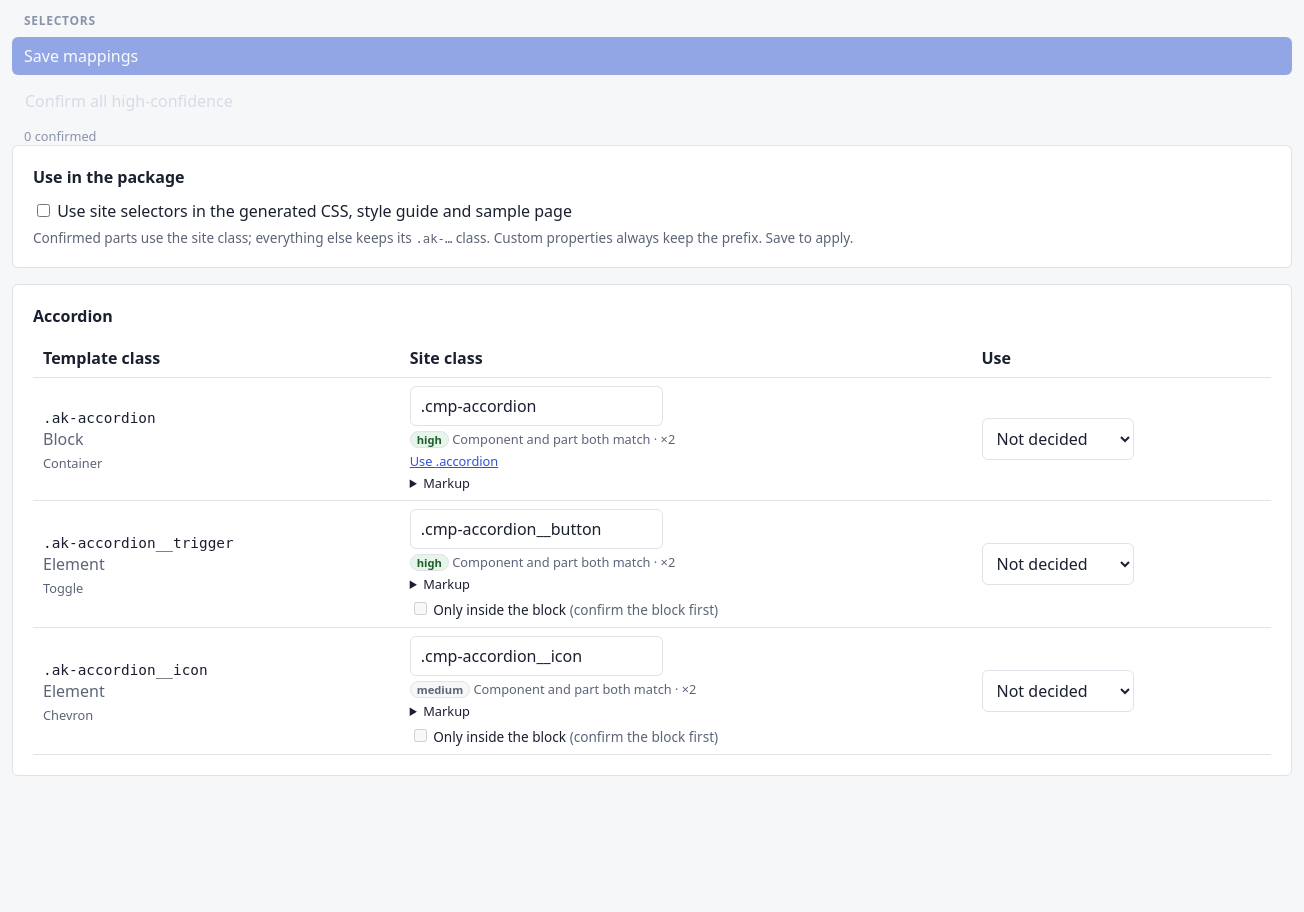
it: SelectorEditor › offers other candidates, scopes elements only once the block is confirmed, and warns
This screenshot has width=1304, height=912.
Expected: the checkbox labelled "Only inside the block (confirm the block first)" below "accordion__trigger" is disabled, x1=414 y1=602 x2=427 y2=615
Select "Site class" in the dropdown named "Use for .ak-accordion": (1058,439) x1=982 y1=418 x2=1134 y2=460
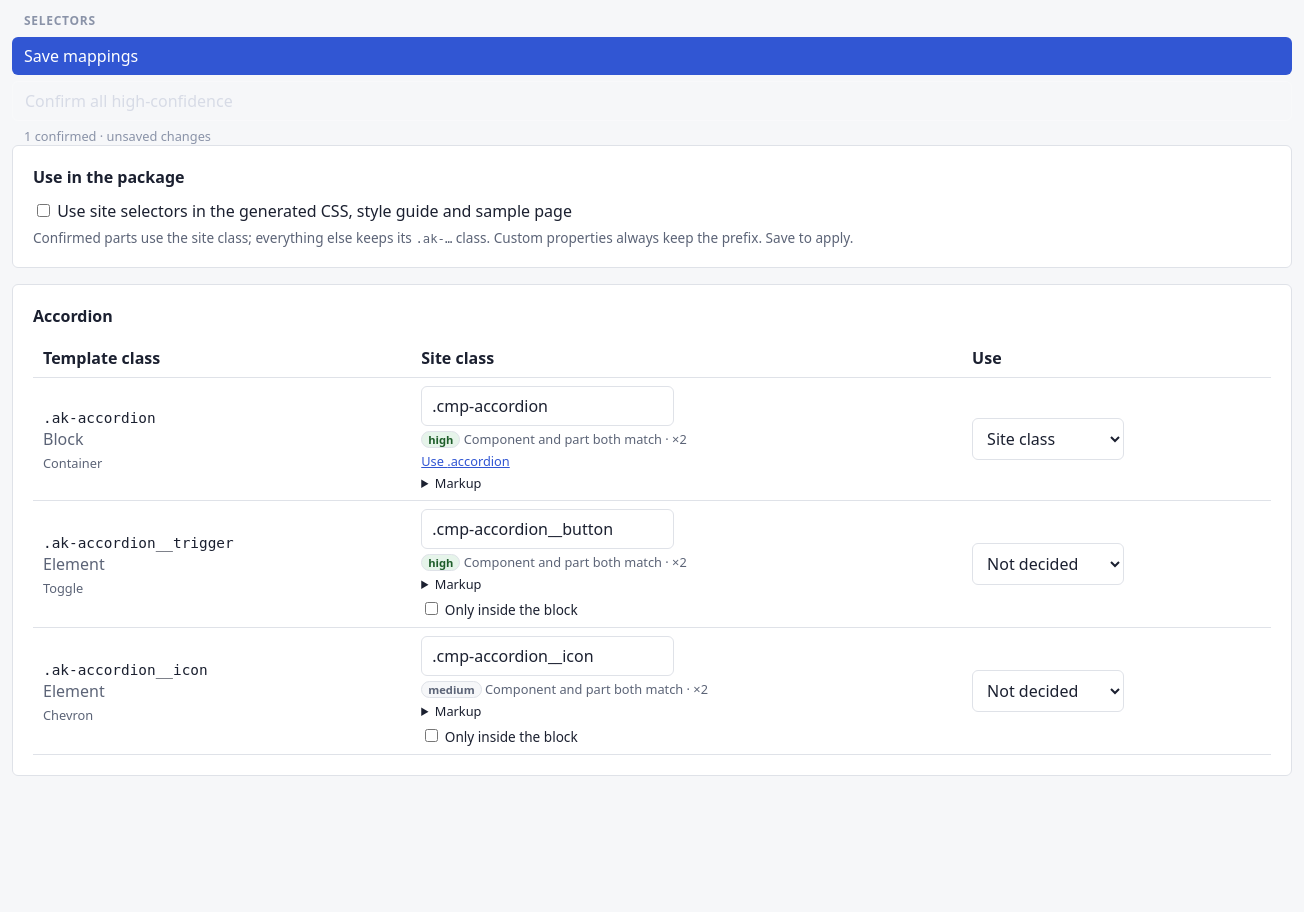
Expected: the checkbox labelled "Only inside the block" below "accordion__trigger" is enabled, x1=425 y1=602 x2=438 y2=615
Click the button "Use .accordion": (465,461) x1=421 y1=452 x2=510 y2=470
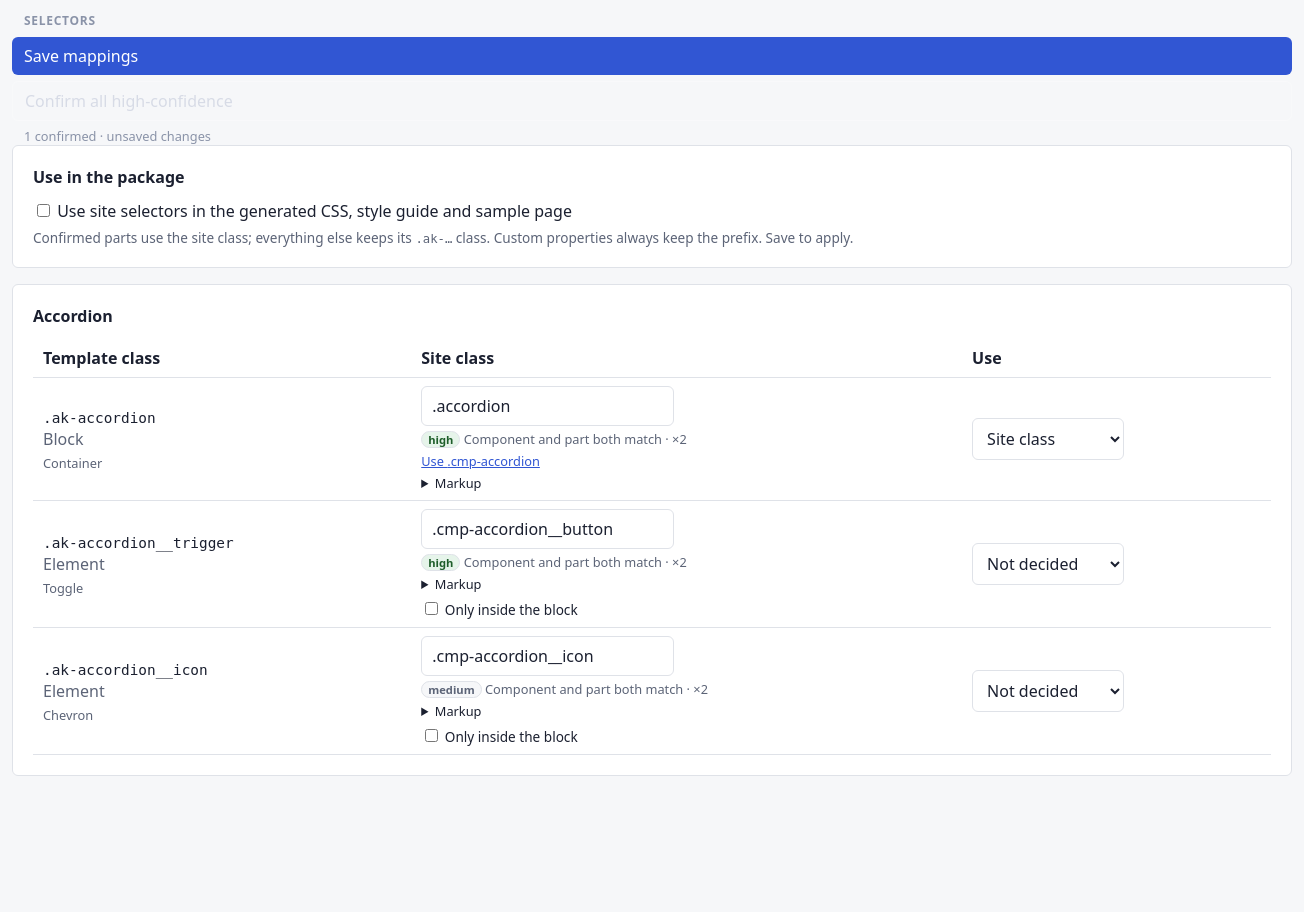
Expected: the field labelled ".ak-accordion" holds ".accordion", x1=421 y1=386 x2=674 y2=426
Replace the text in the field labelled ".ak-accordion__icon" with ".gone": (548,656) x1=421 y1=636 x2=674 y2=676
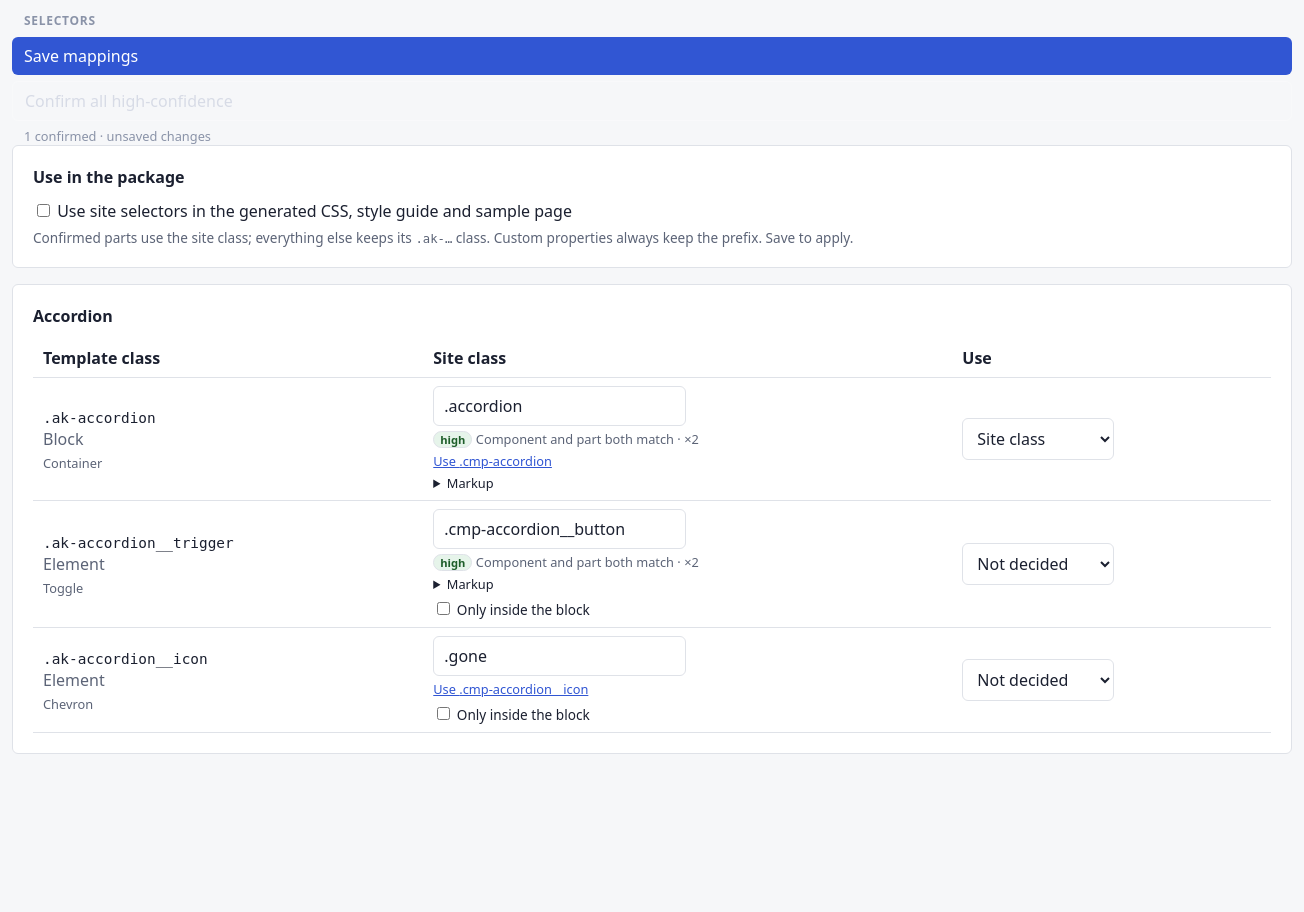
Select "Site class" in the dropdown named "Use for .ak-accordion__icon": (1038,680) x1=962 y1=659 x2=1114 y2=701
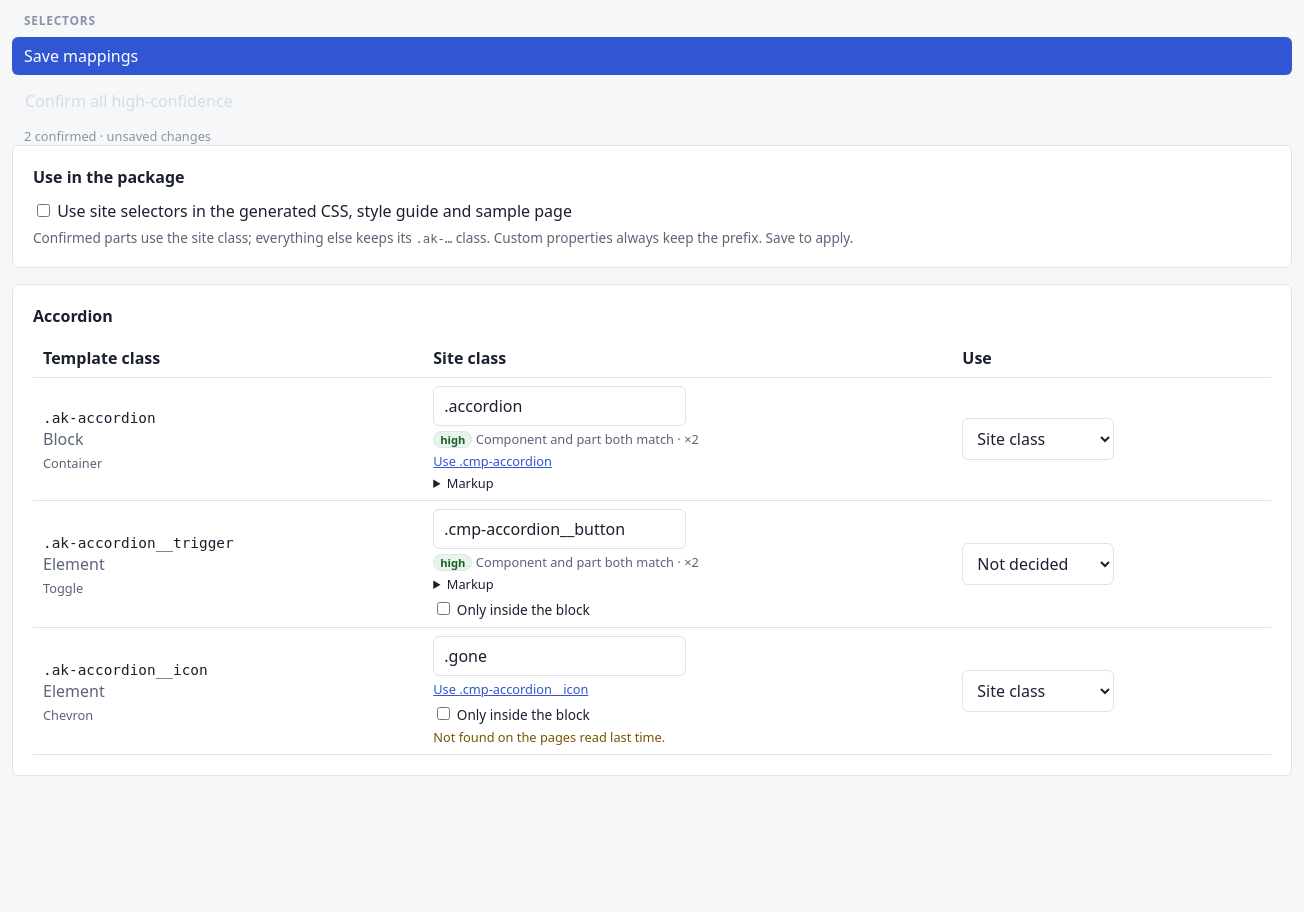
Expected: the text "Not found on the pages read last time." is shown, x1=433 y1=728 x2=665 y2=746
